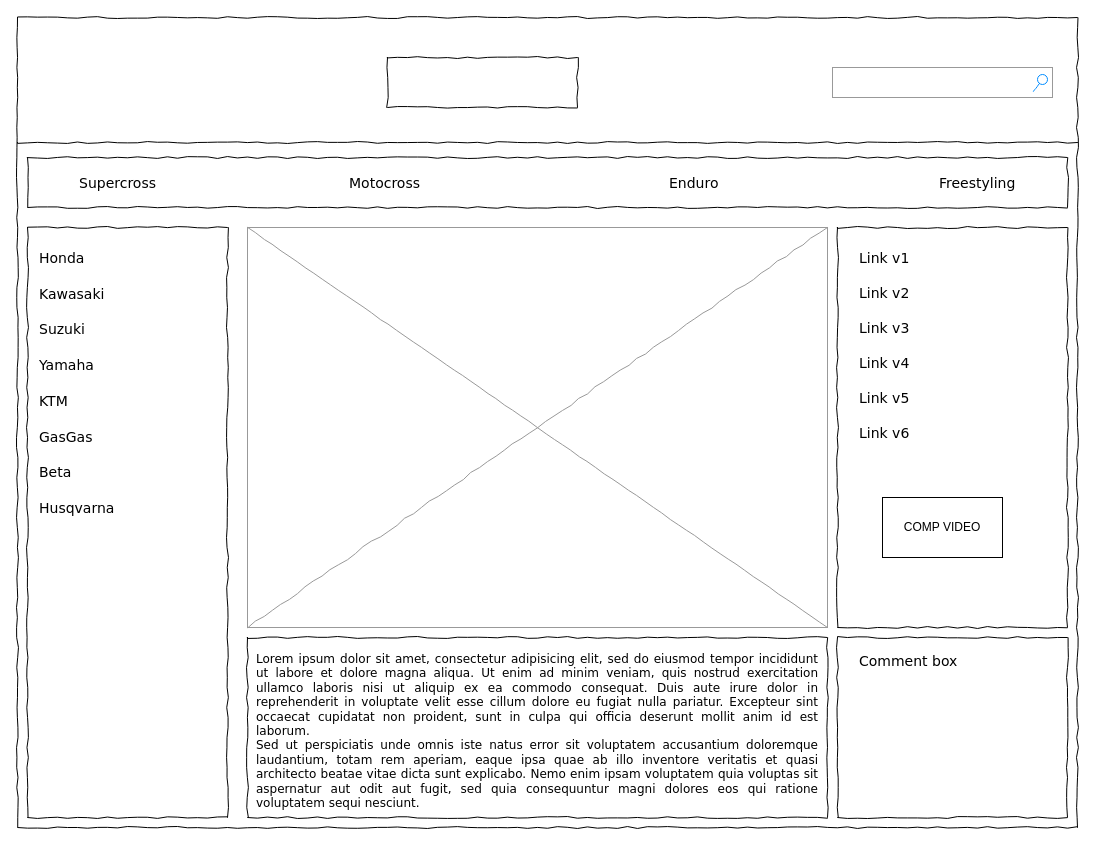
This 1095x845 diagram has some shape labels left out. Here are the shapes that lost their labels. From the top down, the box of each, then its label:
(386, 56, 578, 108): Dirt bike
(832, 66, 1052, 98): Search
